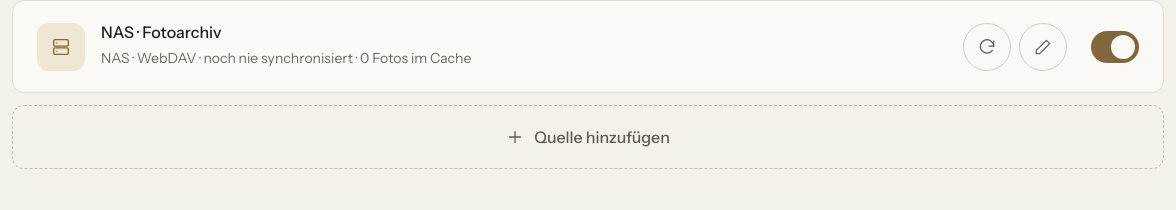
Test: SourcesPane › meldet das Ergebnis des Abgleichs in der Karte der Quelle
This screenshot has width=1176, height=210.
Click the button with class "action-sync" at {"x": 987, "y": 47}, box left=963, top=23, right=1011, bottom=71
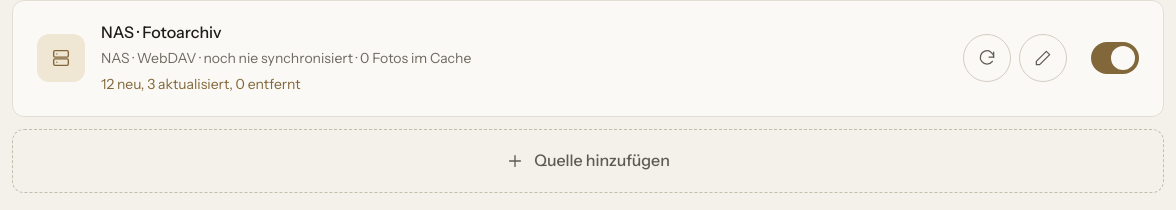
Result: the message "12 neu, 3 aktualisiert, 0 entfernt" is shown at left=101, top=76, right=301, bottom=94
